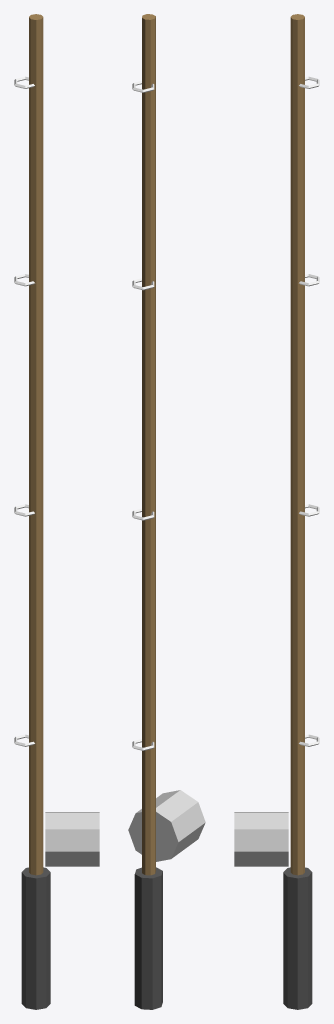
Rendered from FishingRob.fbx.
3 renders of one model, left to right at view 1: azimuth 90°, elevation 25°; view 2: azimuth 150°, elevation 25°; view 3: azimuth 270°, elevation 25°, orthographic.
Visible parts, largest first — view 1: Rod_Main, Rod_Handle, Rod_Reel; view 2: Rod_Main, Rod_Handle, Rod_Reel; view 3: Rod_Main, Rod_Handle, Rod_Reel.
Part boxes in pixels (x1,y1,x2,y2): Rod_Main: (29,14,43,875); Rod_Handle: (21,867,50,1009); Rod_Reel: (45,812,99,866); Rod_Main: (142,14,155,875); Rod_Handle: (134,867,162,1009); Rod_Reel: (128,790,205,861); Rod_Main: (290,14,304,875); Rod_Handle: (283,867,312,1009); Rod_Reel: (234,812,288,866).
Size of the model in its own units: 16 by 300 by 23.53.
